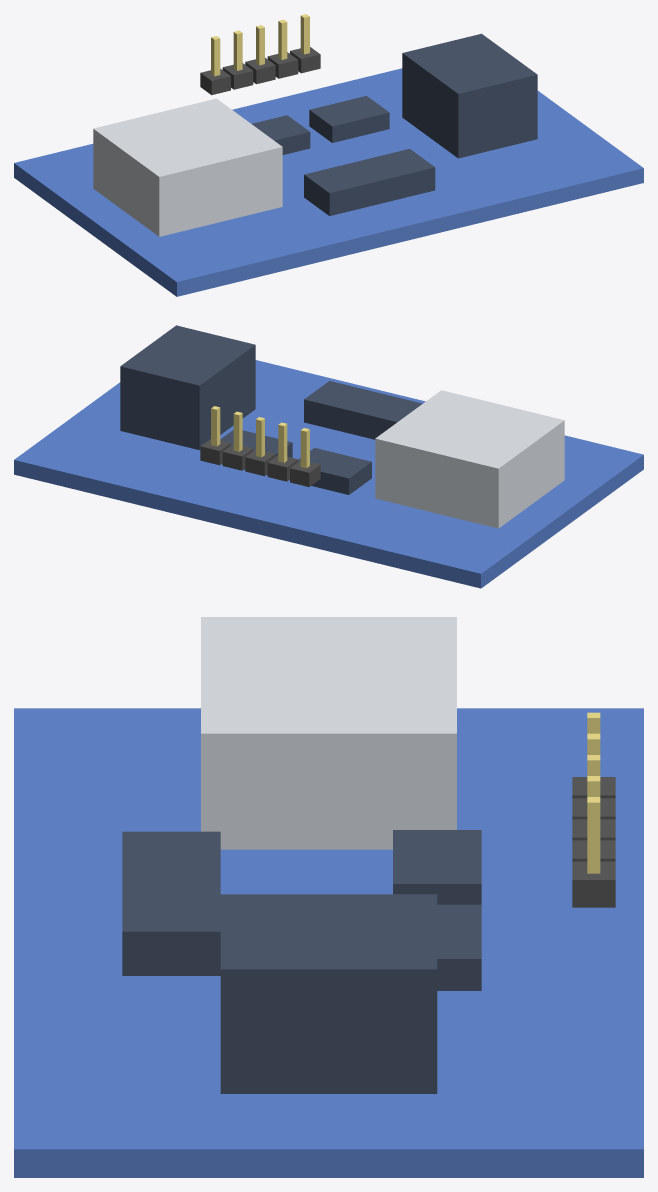
Rendered from breadboard-power-module-mb102.glb.
The picture shows the model from 3 angles, top to bottom: view 1: azimuth 30°, elevation 25°; view 2: azimuth 150°, elevation 25°; view 3: azimuth 270°, elevation 25°; orthographic projection. The views are drawn at different scales.
Visible parts, largest first — view 1: breadboard-power-module-mb102_mesh; view 2: breadboard-power-module-mb102_mesh; view 3: breadboard-power-module-mb102_mesh.
Part boxes in pixels (x1,y1,x2,y2): breadboard-power-module-mb102_mesh: (14, 14, 643, 296); breadboard-power-module-mb102_mesh: (14, 325, 643, 588); breadboard-power-module-mb102_mesh: (14, 617, 643, 1177).
Size of the model in its own units: 53 by 11.2 by 32.
